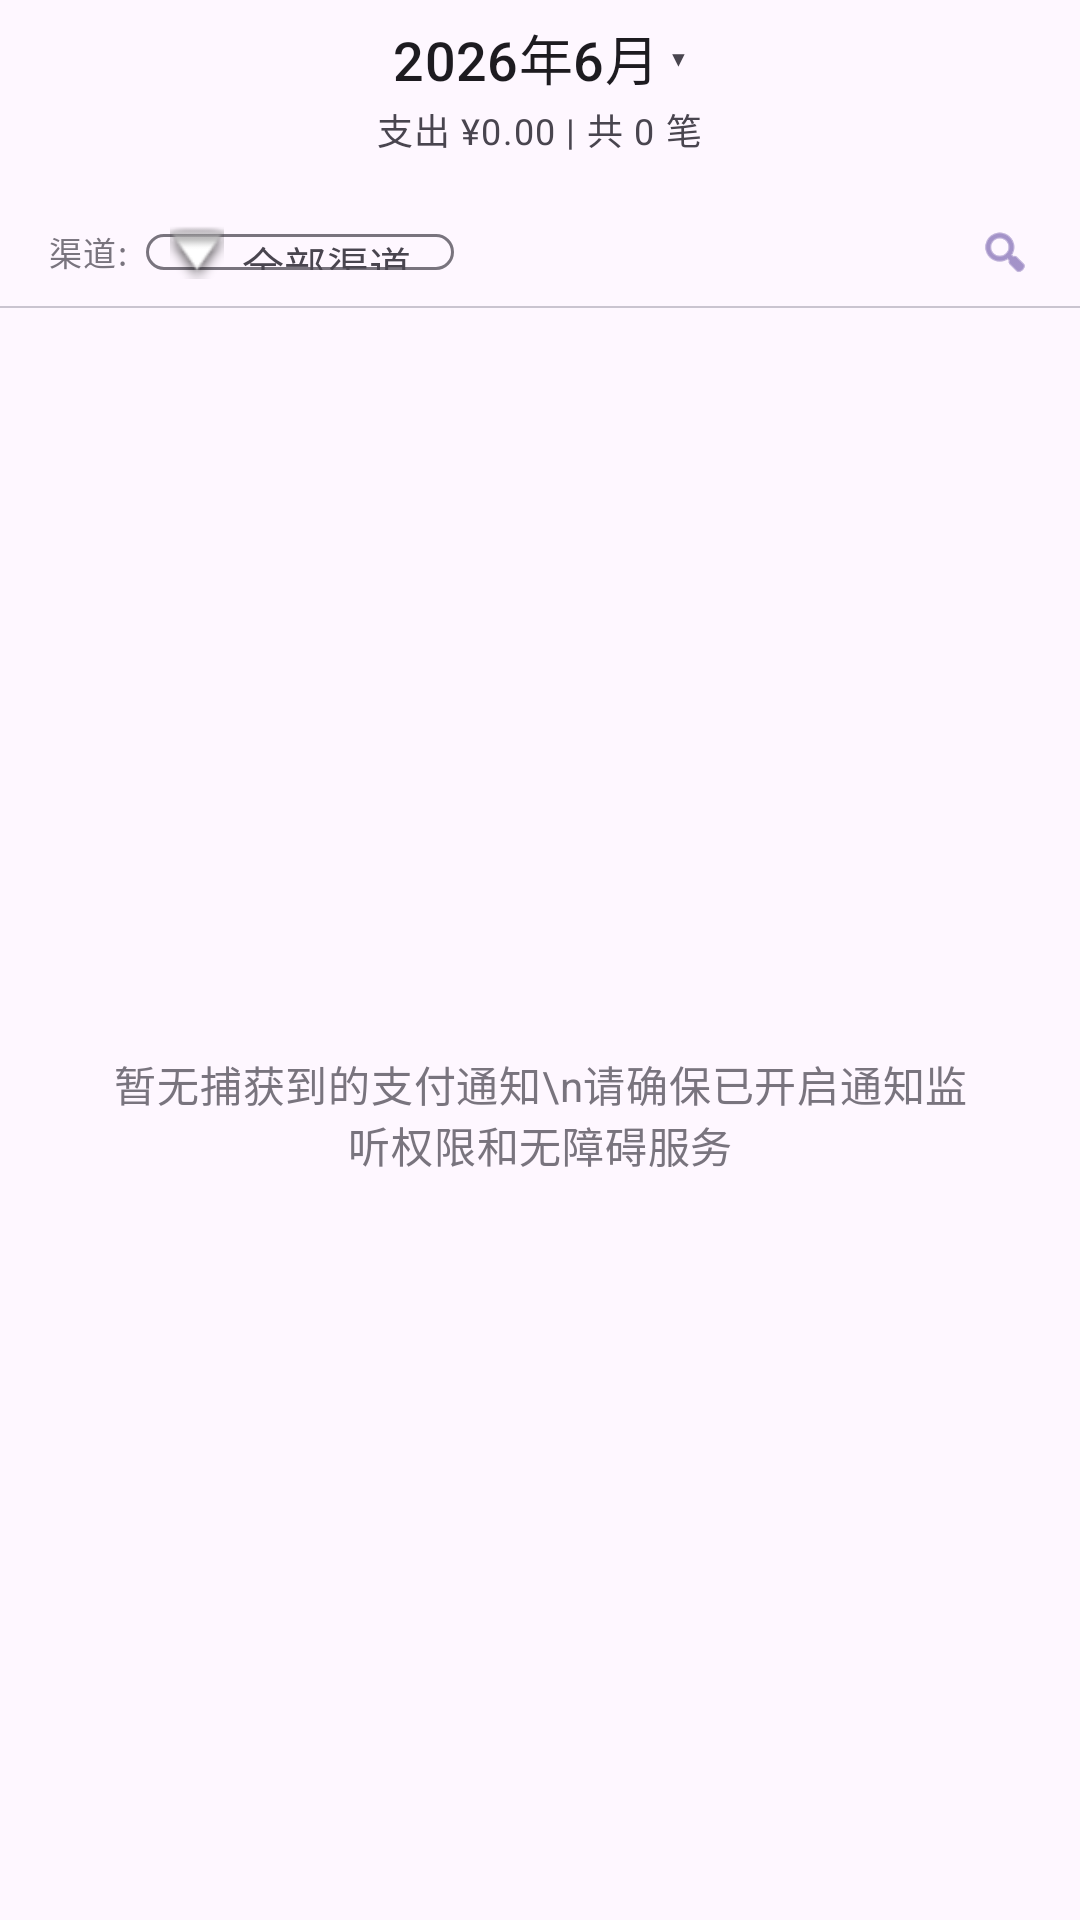

Locate icon controls on the screen. Image size 1080w x 1920h, boxes as (left=x1, top=y1, right=x2, bottom=y2).
搜索: (left=985, top=232, right=1025, bottom=272)
